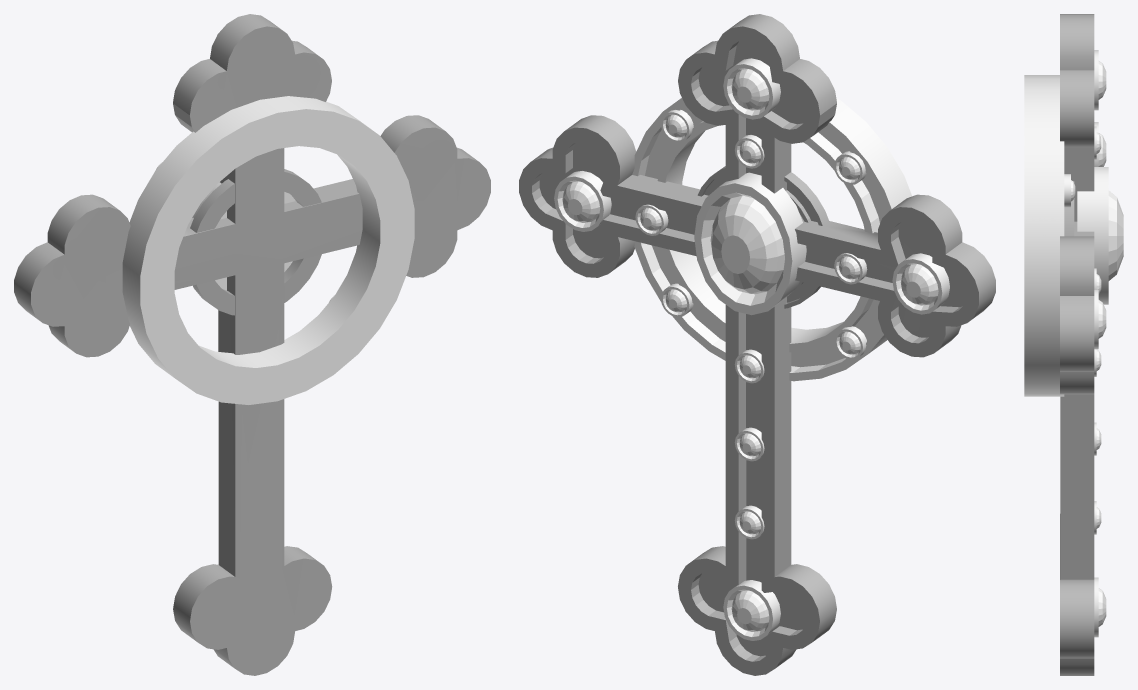
The model's file is Cross 2.glb.
3 views of the same model, side by side, from view 1: azimuth 30°, elevation 25°; view 2: azimuth 150°, elevation 25°; view 3: azimuth 270°, elevation 25° (orthographic).
Parts seen in each view (by area): view 1: Cruz, Tube001; view 2: Cruz, Tube001, Gema Centro, Gema Centro005, Gema Centro003, Gema Centro004, Gema Centro002, Gema Centro001, Gema Centro007, Gema Centro009, Gema Centro008, Gema Centro012 (+5 smaller); view 3: Cruz, Tube001, Gema Centro, Gema Centro002, Gema Centro003, Gema Centro004, Gema Centro007, Gema Centro005, Gema Centro010, Gema Centro014, Gema Centro011.
Boxes of the visible parts, x1,y1,x2,y2 form: Cruz: [14, 14, 490, 675]; Tube001: [122, 96, 414, 404]; Cruz: [519, 14, 995, 675]; Tube001: [632, 98, 911, 381]; Gema Centro: [694, 172, 806, 315]; Gema Centro005: [892, 253, 949, 314]; Gema Centro003: [723, 58, 780, 119]; Gema Centro004: [723, 580, 780, 640]; Gema Centro002: [554, 171, 611, 231]; Gema Centro001: [834, 326, 866, 359]; Gema Centro007: [661, 110, 693, 142]; Gema Centro009: [661, 283, 693, 317]; Gema Centro008: [834, 151, 866, 184]; Gema Centro012: [834, 253, 867, 284]; Cruz: [1060, 14, 1094, 675]; Tube001: [1024, 75, 1064, 396]; Gema Centro: [1077, 167, 1123, 304]; Gema Centro002: [1094, 289, 1106, 349]; Gema Centro003: [1094, 50, 1106, 110]; Gema Centro004: [1094, 577, 1106, 637]; Gema Centro007: [1064, 174, 1075, 207]; Gema Centro005: [1094, 122, 1106, 166]; Gema Centro010: [1094, 422, 1101, 455]; Gema Centro014: [1094, 126, 1101, 159]; Gema Centro011: [1094, 501, 1101, 534].
Bounding box in the file's own units: 4.7 × 6.32 × 0.8725.
Materials: 3 (1 with a texture image).
